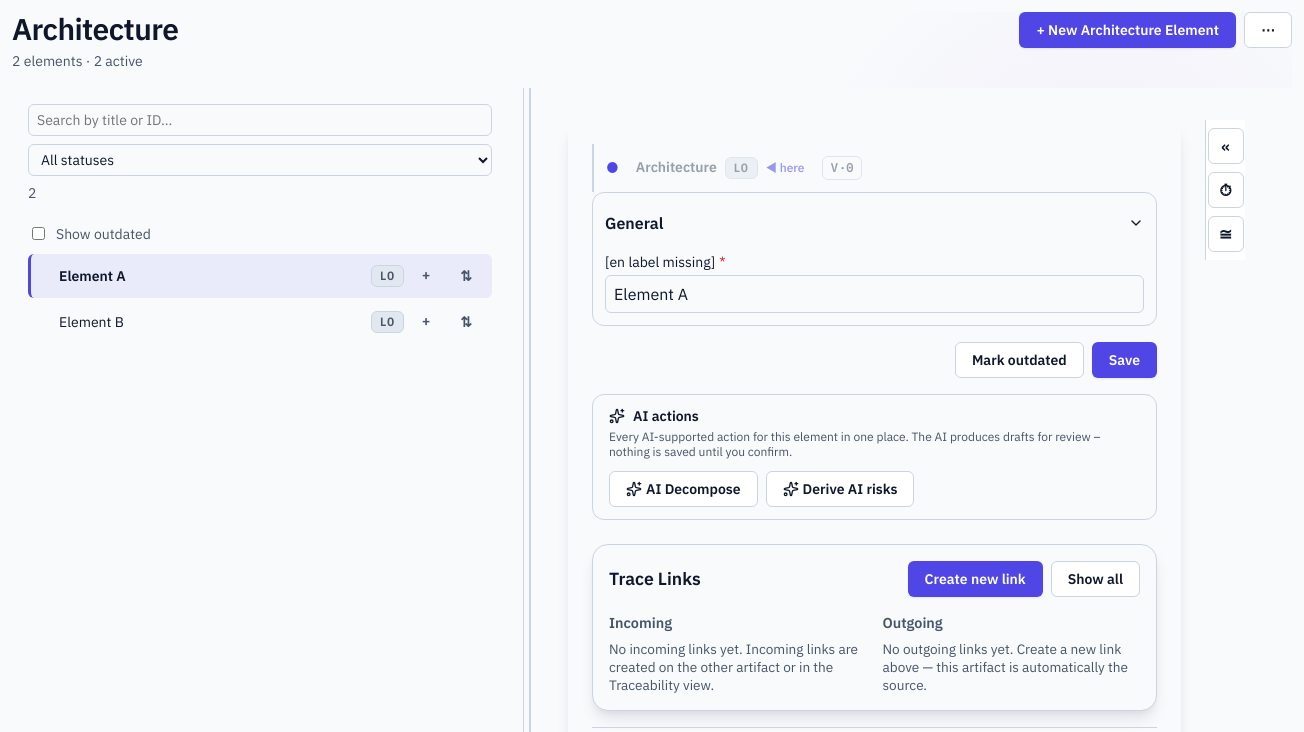
Test: ArchitectureEditors — unsaved-changes confirmation before tree navigation (#672) › navigates immediately, without any dialog, when the form has no unsaved edits
Expected: the field with test id "artifact-field-title" holds "Element A", [605,274,1144,312]
What coordinates should you click on to do the following:
click the list item "Element B L0 + ⇅"
I would click on:
 (91, 322)
Its box is [28,300,492,344].
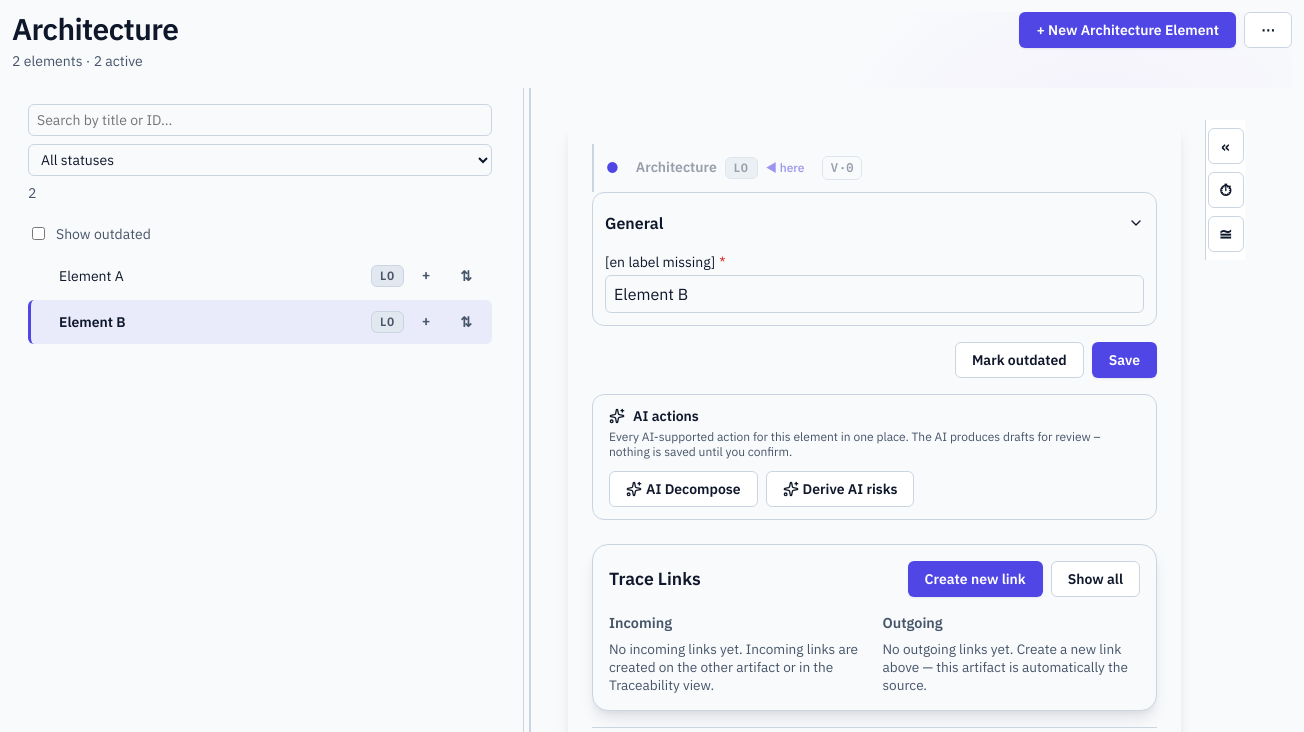
Expected: the field with test id "artifact-field-title" holds "Element B", [605,274,1144,312]
